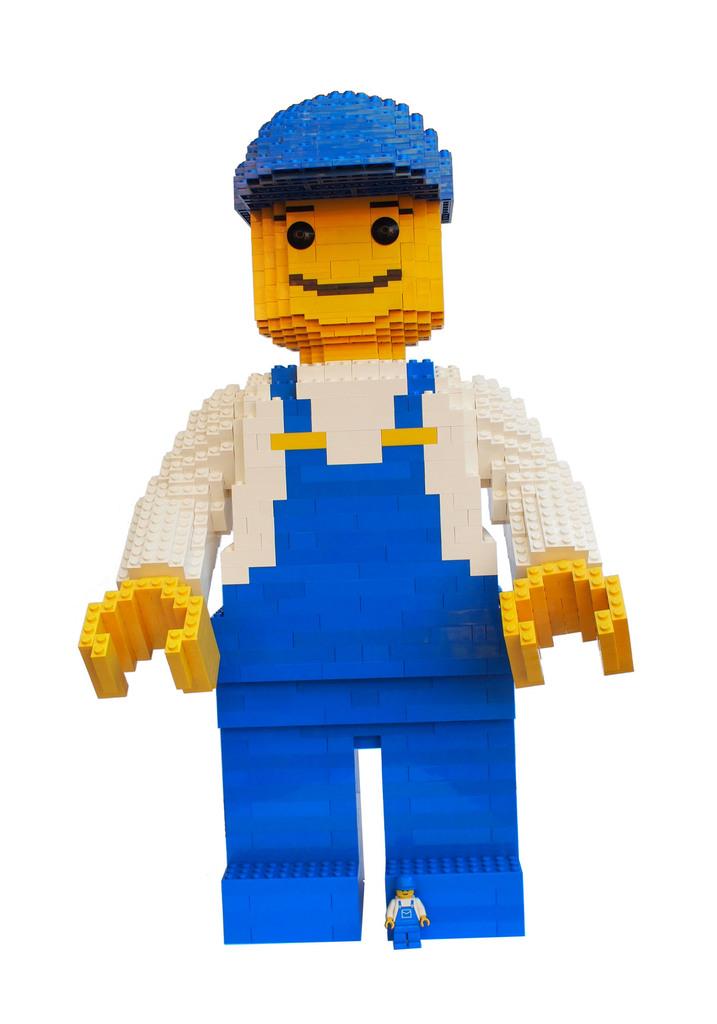Person: (77, 90, 634, 944), (384, 875, 430, 949)
